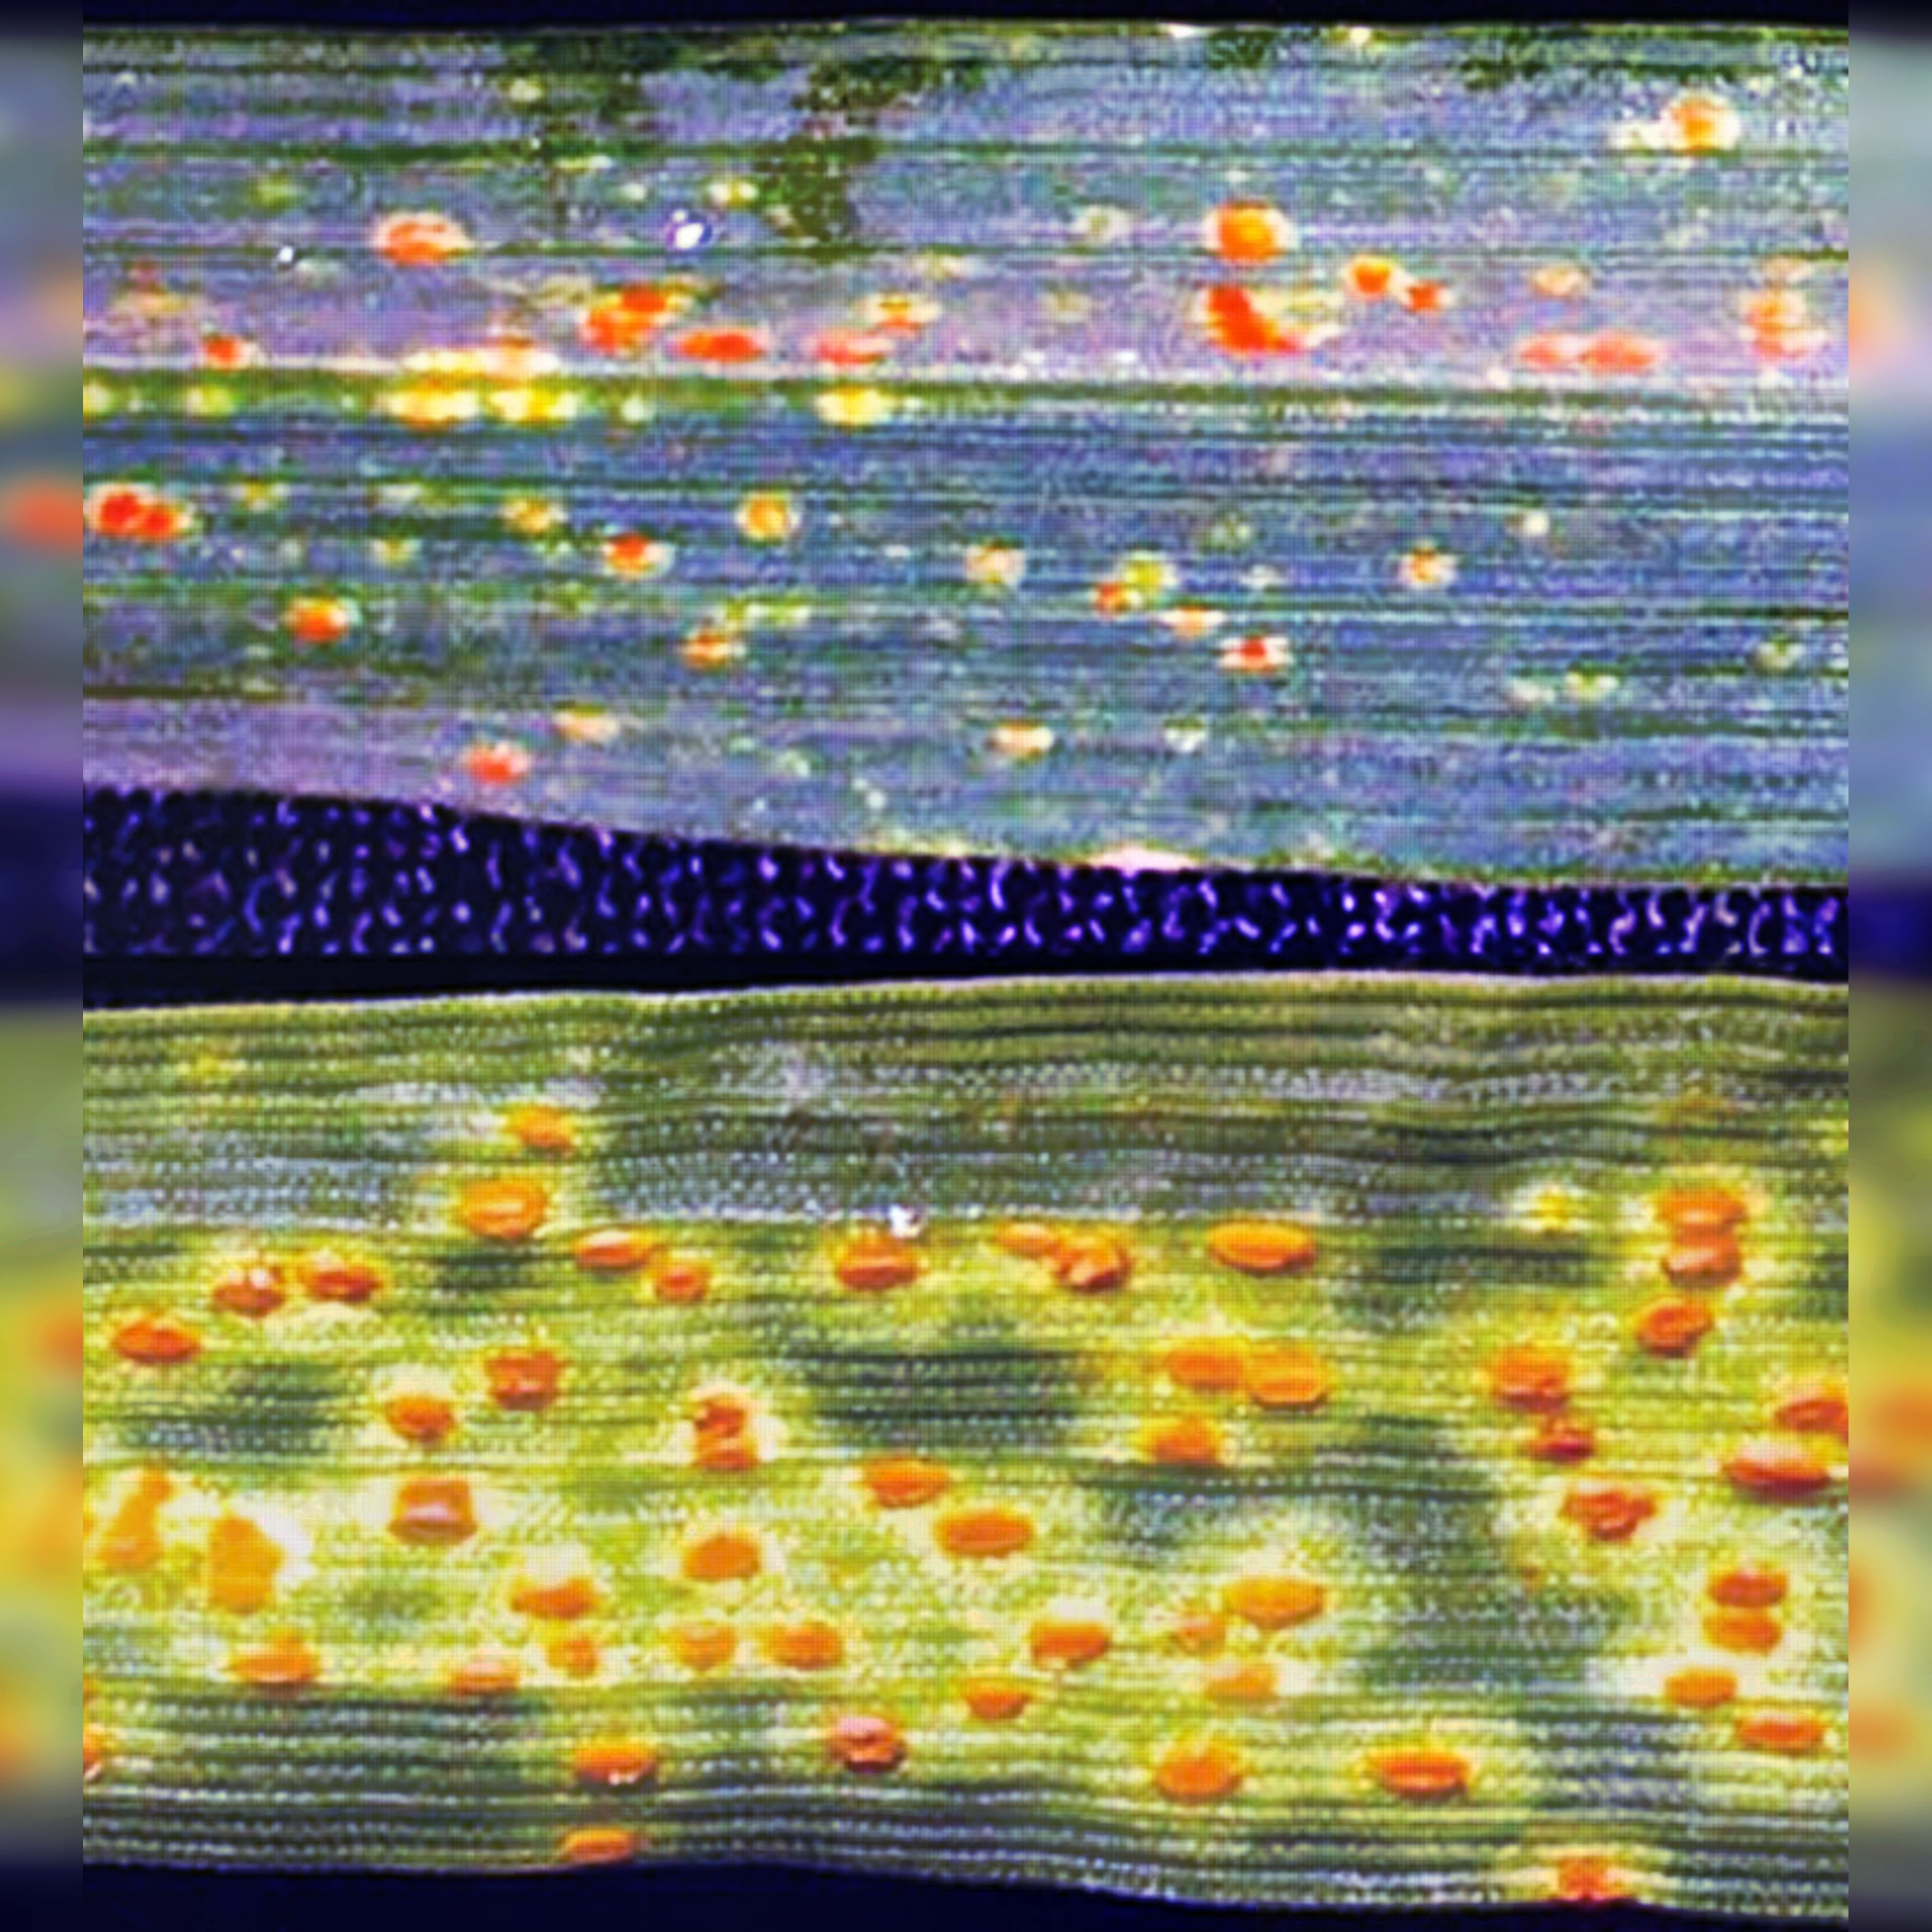Leaf Rust: (83, 1106, 1872, 1890)
